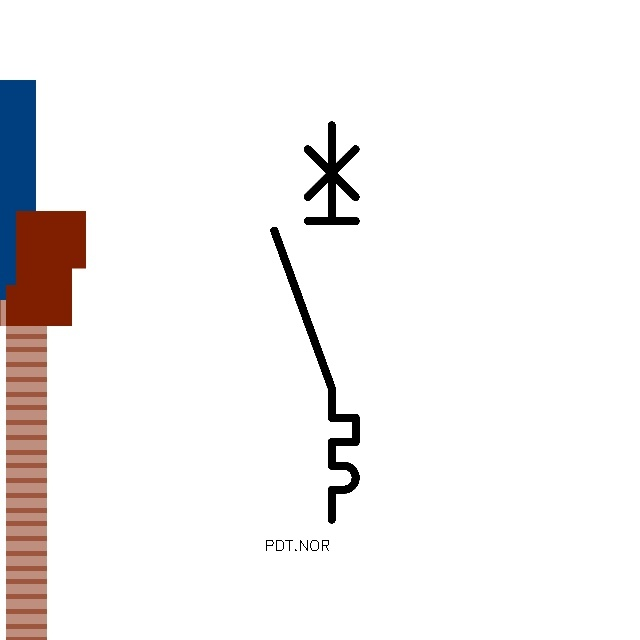interruptor_termomagnetico: (264, 115, 366, 530)
